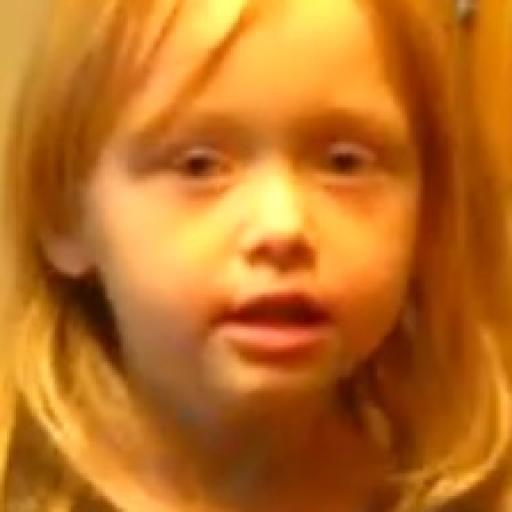Autism: (40, 43, 476, 390)
